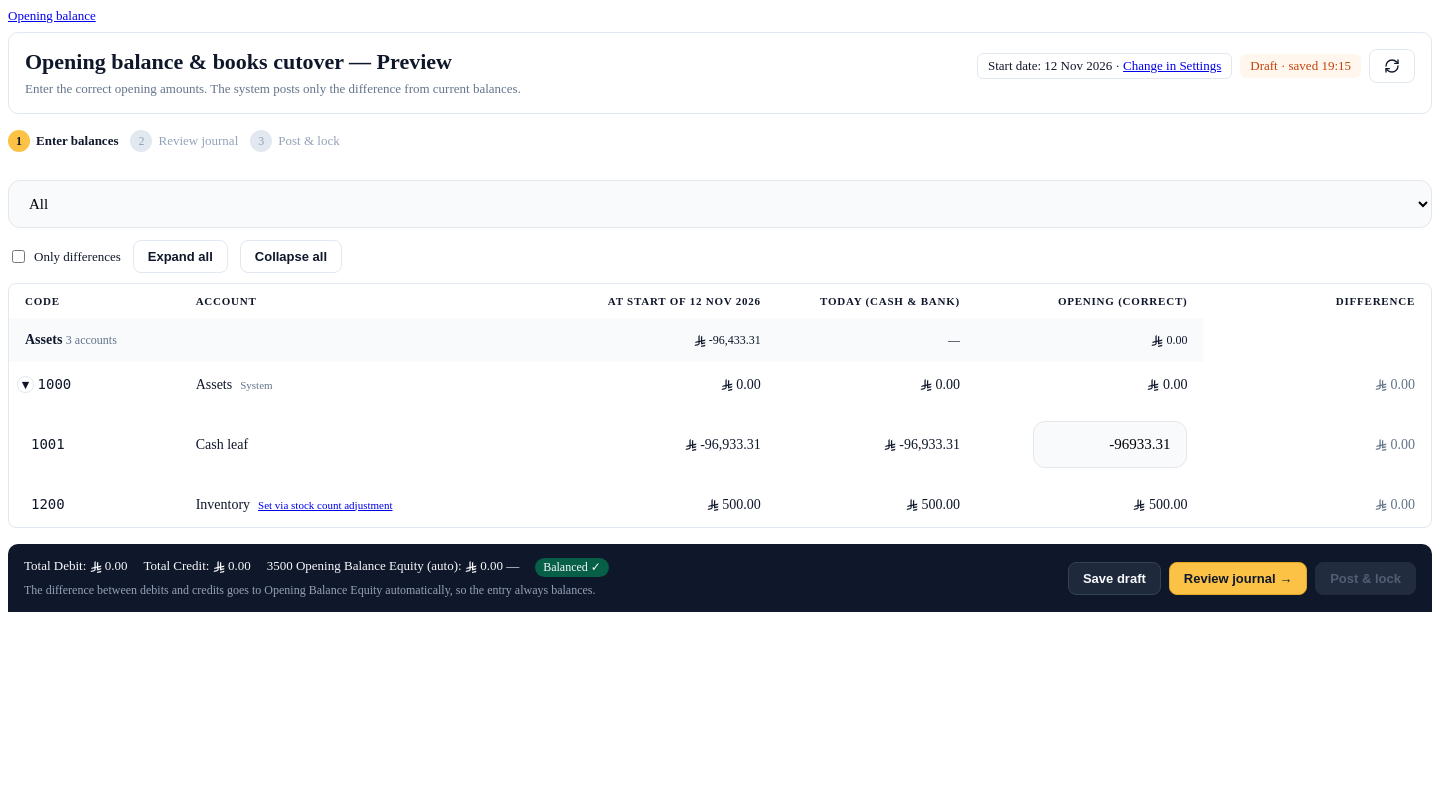
Test: WorkshopOpeningBalancePage review popup › 4: unsaved edits are not wiped by Review; preview body contains them
Expected: the button "Review journal →" is shown, 1169,562 -> 1307,594
Clear the field named "1001 opening" at (1110, 444), box 1034,421 -> 1188,468
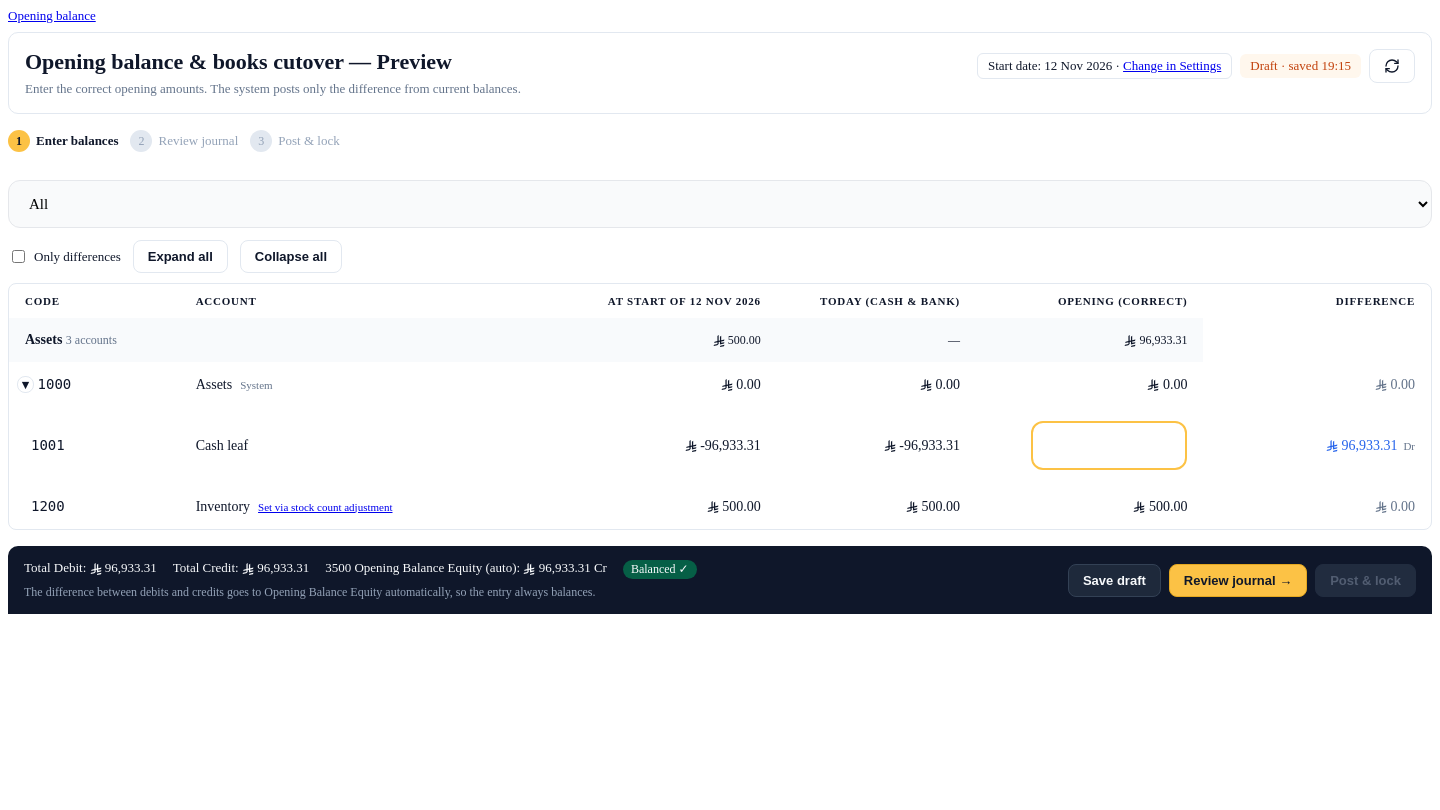
Type "-90000.00" into the field named "1001 opening" at (1110, 446), box 1032,421 -> 1188,470
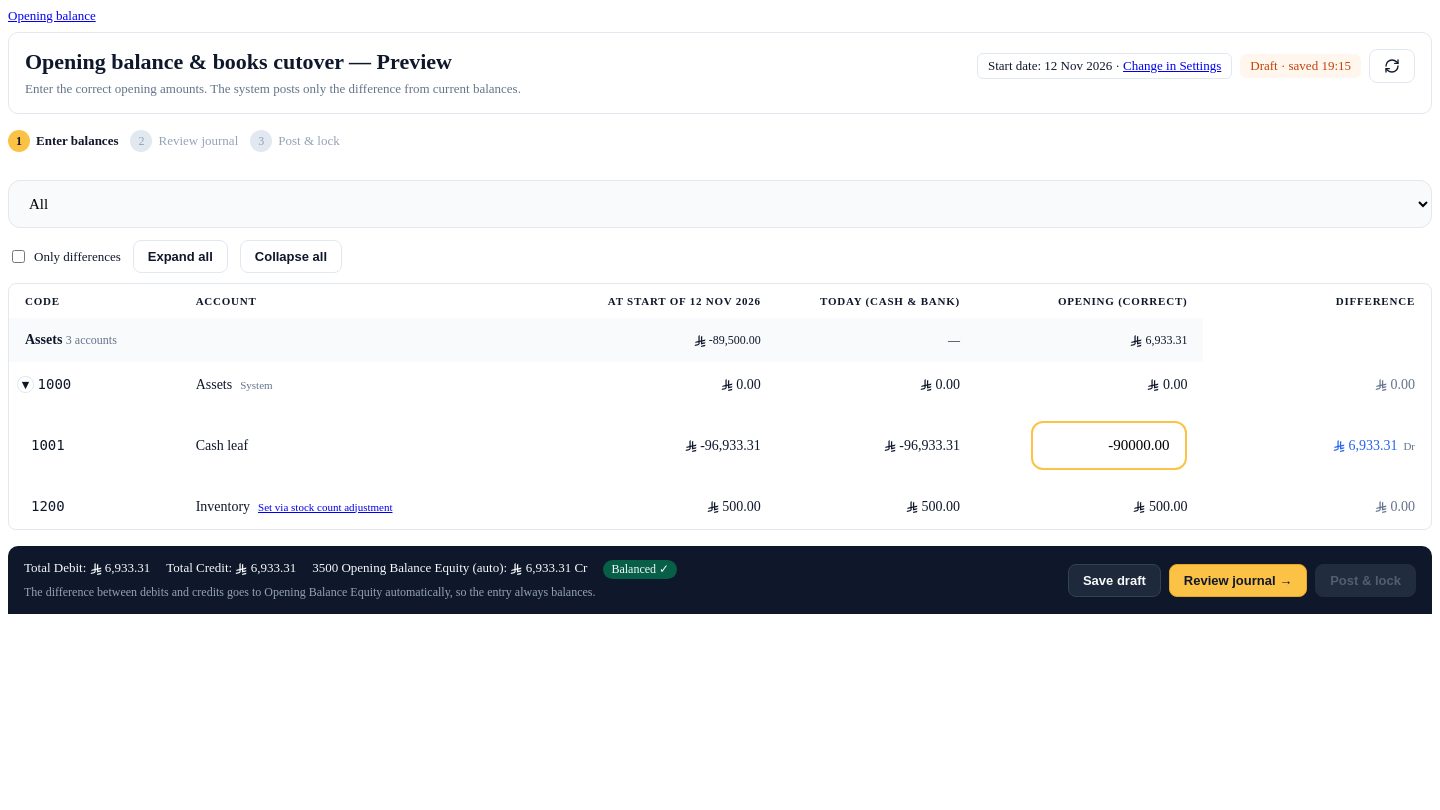
Click the button "Review journal →" at (1238, 580), box 1169,564 -> 1307,596
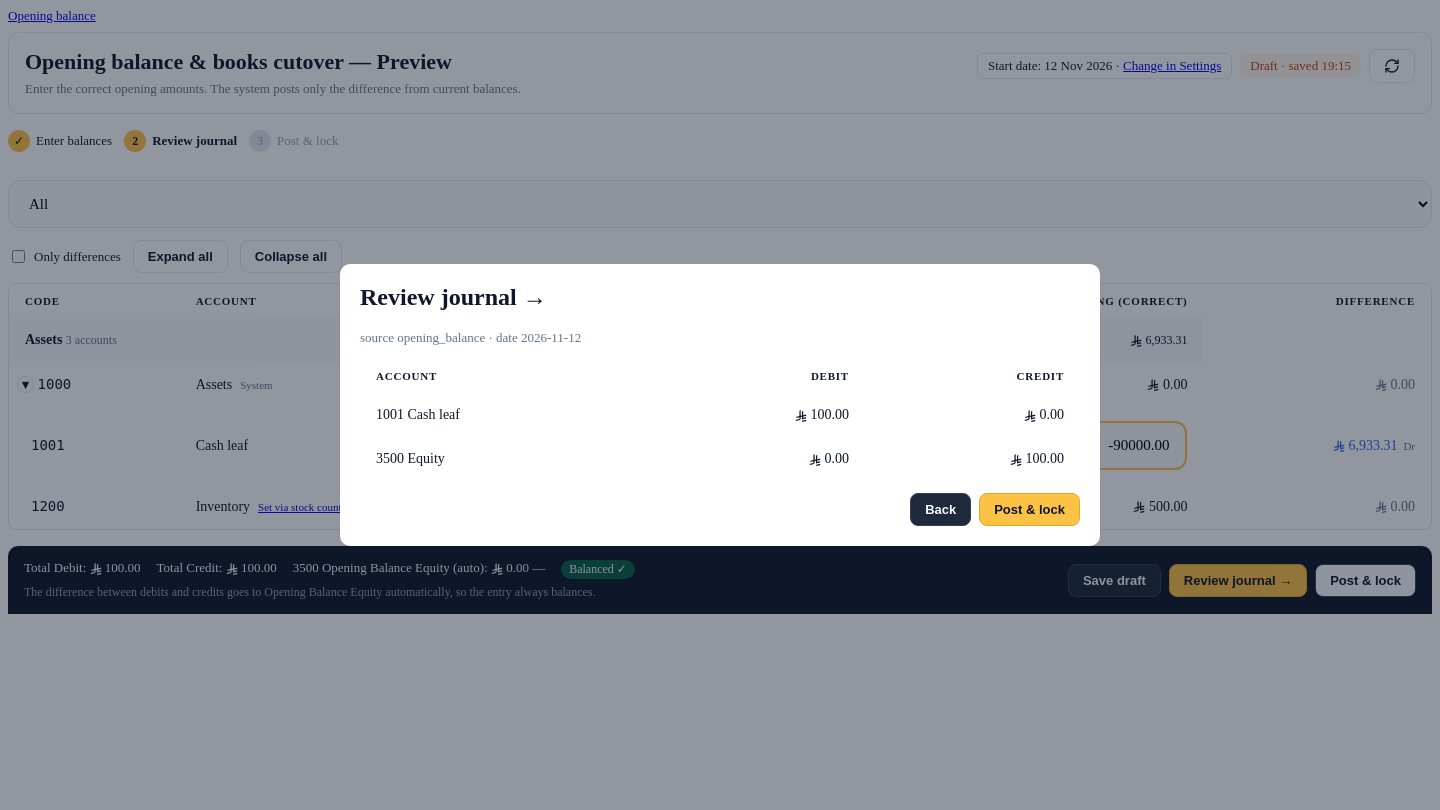
Expected: the field named "1001 opening" holds "-90000.00", 1032,421 -> 1188,470
Expected: the dialog is shown
